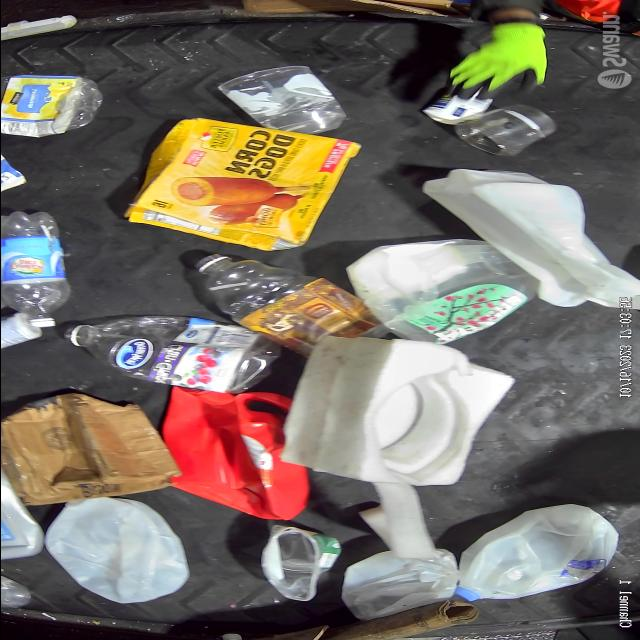milk_jug: (424, 168, 640, 308), (454, 500, 616, 602), (57, 495, 197, 604)
non_white_jug: (164, 384, 326, 522)
plastic_bottle: (188, 246, 378, 346), (76, 318, 278, 392), (0, 207, 72, 327), (0, 64, 105, 138)
